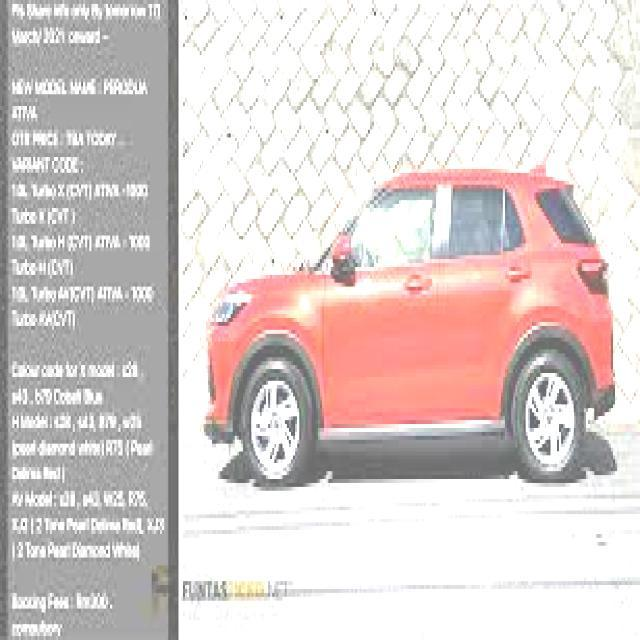PeroduaAtiva: (202, 161, 617, 487)
